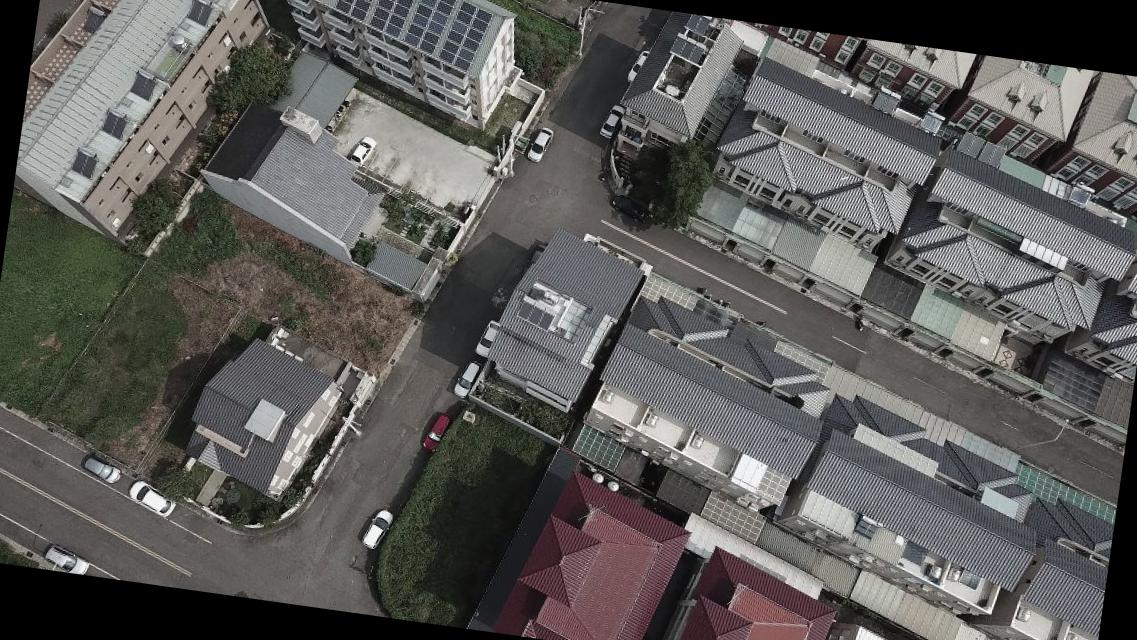vehicle: (124, 478, 179, 518), (42, 542, 92, 574), (419, 410, 452, 454), (362, 508, 394, 552), (452, 357, 482, 401), (81, 455, 123, 484), (526, 125, 554, 166), (475, 318, 501, 360), (599, 102, 626, 140), (348, 133, 376, 168), (625, 46, 648, 84)
